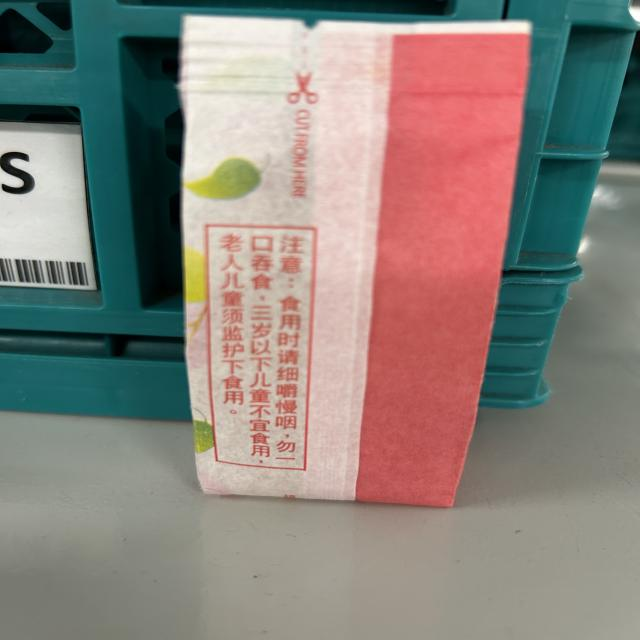object_name: (182, 25, 468, 491)
